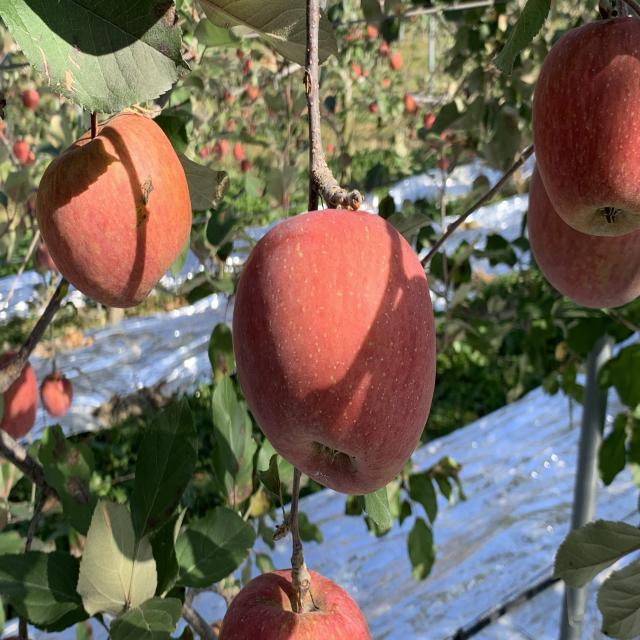fresh: (228, 202, 445, 501)
